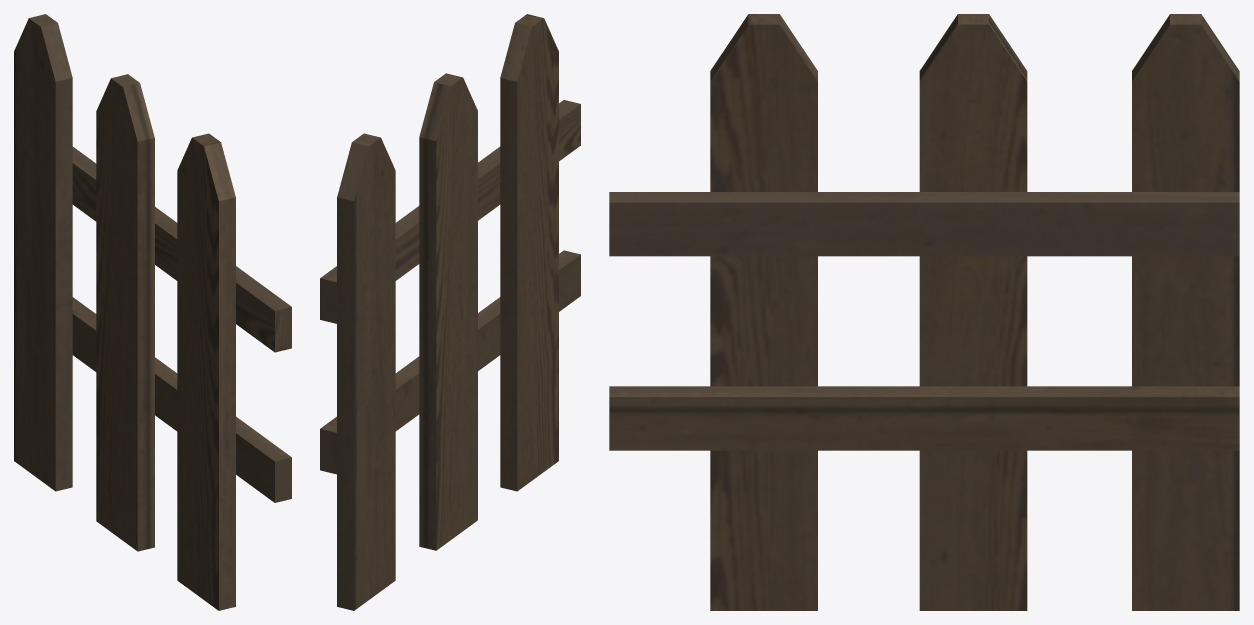
File: Fence.fbx
The picture shows the model from 3 angles, left to right: view 1: azimuth 30°, elevation 25°; view 2: azimuth 150°, elevation 25°; view 3: azimuth 270°, elevation 25°; orthographic projection. The views are drawn at different scales.
Visible parts, largest first — view 1: fence; view 2: fence; view 3: fence.
Part boxes in pixels (x1,y1,x2,y2): fence: (14, 14, 291, 610); fence: (320, 14, 580, 610); fence: (609, 14, 1239, 610).
Bounding box in the file's own units: 2 × 25.43 × 24.77.
